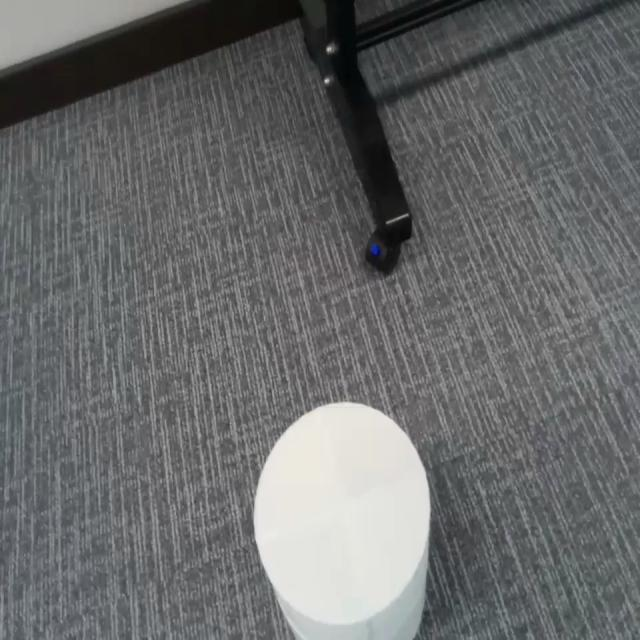cylinder: (252, 403, 433, 640)
